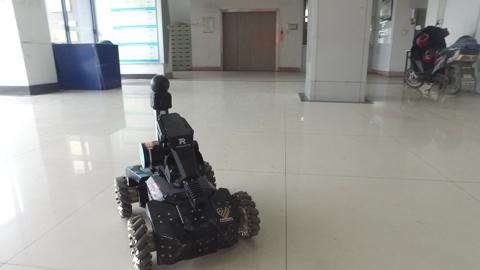chariot: (99, 74, 265, 270)
